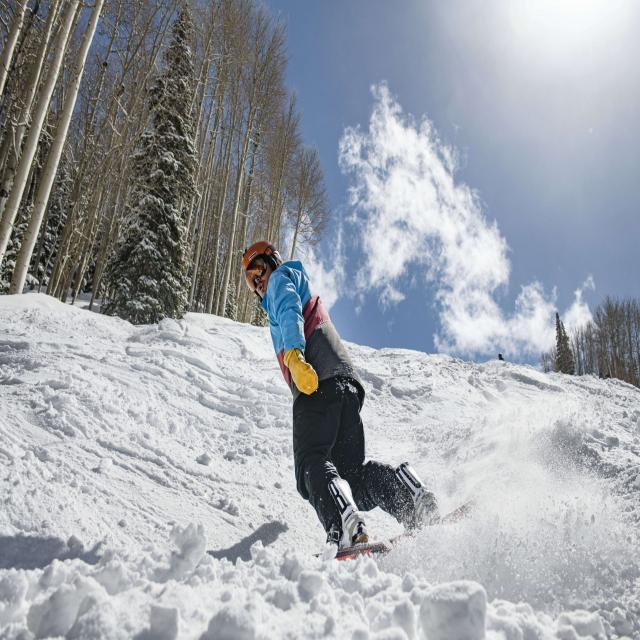snowboarder: (240, 240, 482, 565)
